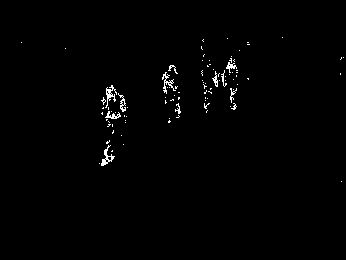person: (95, 83, 129, 166), (162, 63, 183, 125), (220, 55, 241, 111), (201, 59, 219, 113)
